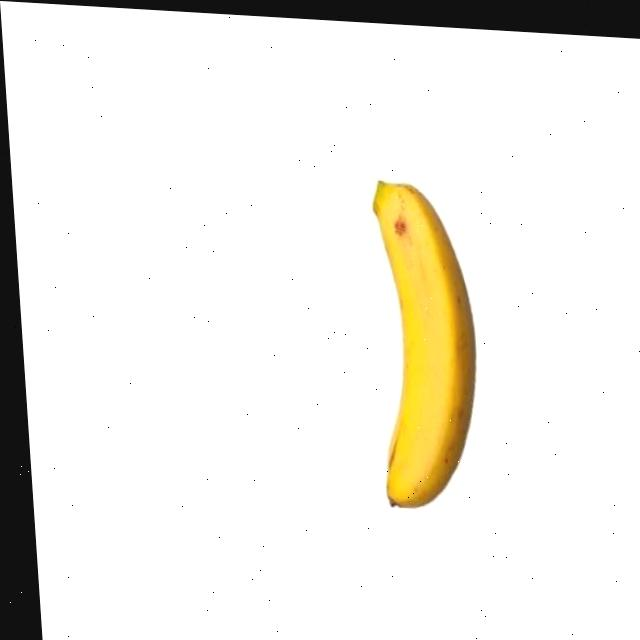banana: (364, 177, 489, 517)
